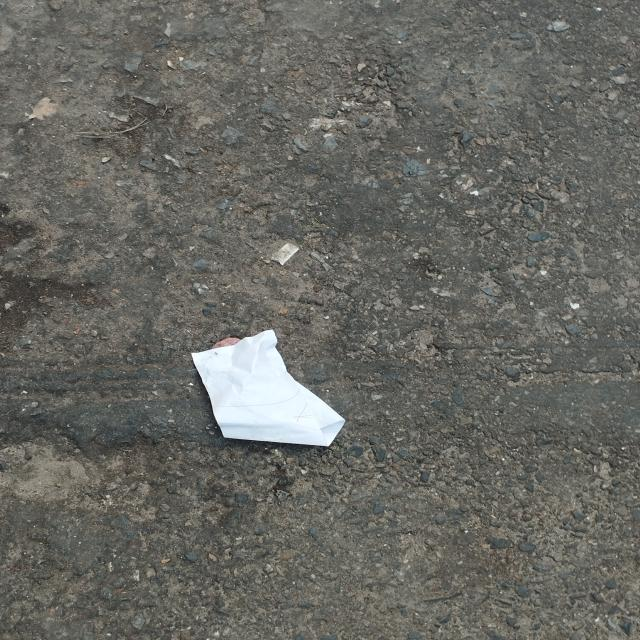paper: (191, 328, 348, 448)
